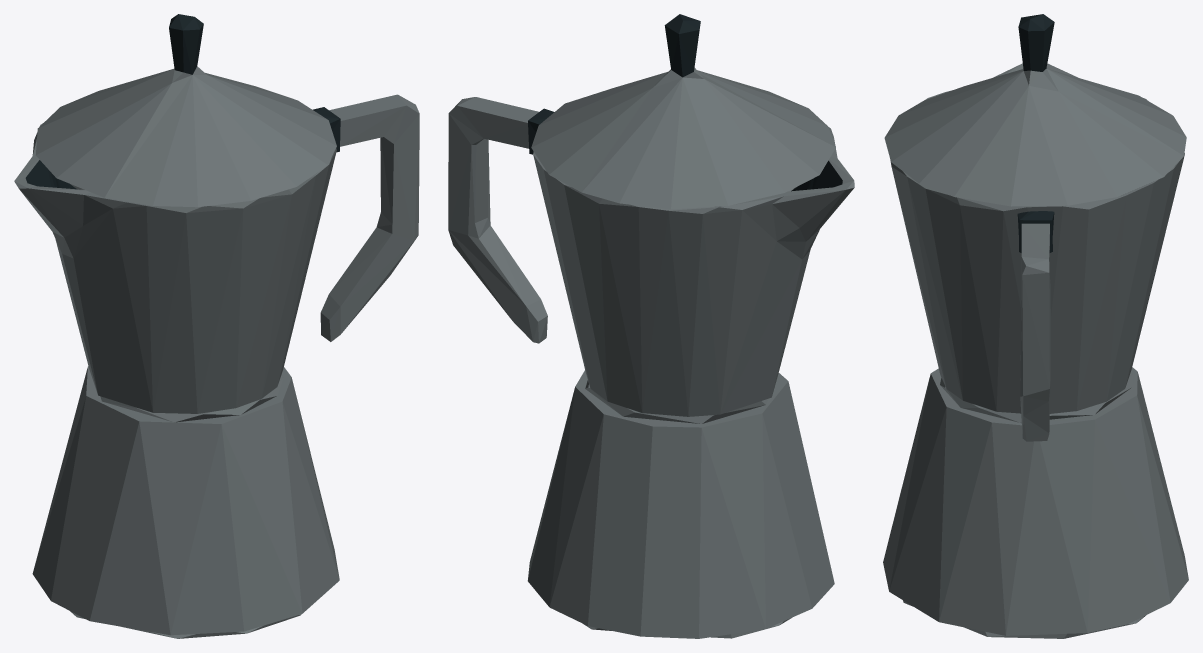
File: CoffeeMaker.fbx
3 renders of one model, left to right at view 1: azimuth 30°, elevation 25°; view 2: azimuth 150°, elevation 25°; view 3: azimuth 270°, elevation 25°, orthographic.
Parts seen in each view (by area): view 1: CoffeeMakerPart2LowPoly, CoffeeMakerPart1LowPoly, CoffeeMakerPart3LowPoly; view 2: CoffeeMakerPart2LowPoly, CoffeeMakerPart1LowPoly, CoffeeMakerPart3LowPoly; view 3: CoffeeMakerPart1LowPoly, CoffeeMakerPart2LowPoly, CoffeeMakerPart3LowPoly.
Boxes of the visible parts, x1,y1,x2,y2 form: CoffeeMakerPart2LowPoly: (14, 94, 419, 413); CoffeeMakerPart1LowPoly: (32, 366, 339, 638); CoffeeMakerPart3LowPoly: (35, 14, 336, 207); CoffeeMakerPart2LowPoly: (448, 97, 854, 416); CoffeeMakerPart1LowPoly: (527, 370, 834, 638); CoffeeMakerPart3LowPoly: (531, 14, 835, 209); CoffeeMakerPart1LowPoly: (883, 367, 1188, 638); CoffeeMakerPart2LowPoly: (890, 63, 1184, 441); CoffeeMakerPart3LowPoly: (884, 14, 1186, 206).
Size of the model in its own units: 15.2 by 20.66 by 10.17.
